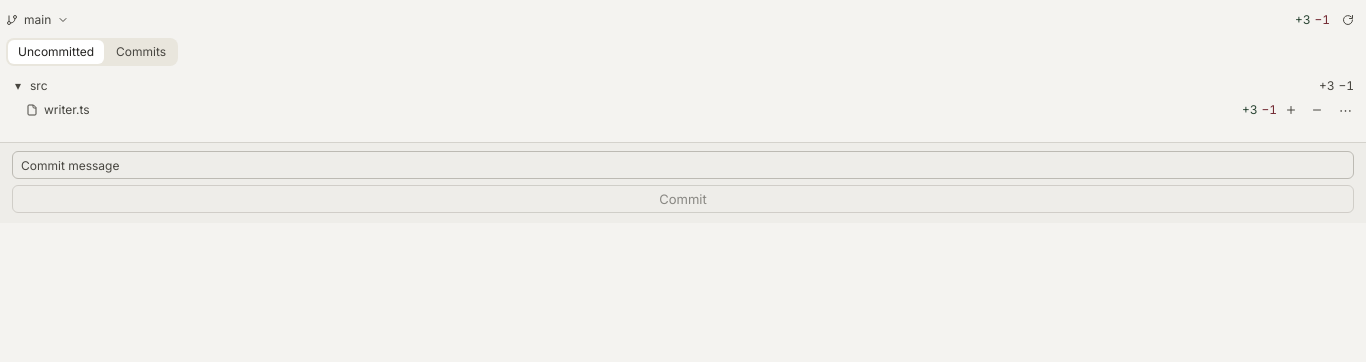
Scenario: ChangesSurface › asks for the diff of the row that is selected and renders its four line kinds
Click the button with class "workspace-file-change" at point(32, 110), box [6,98,1240,122]
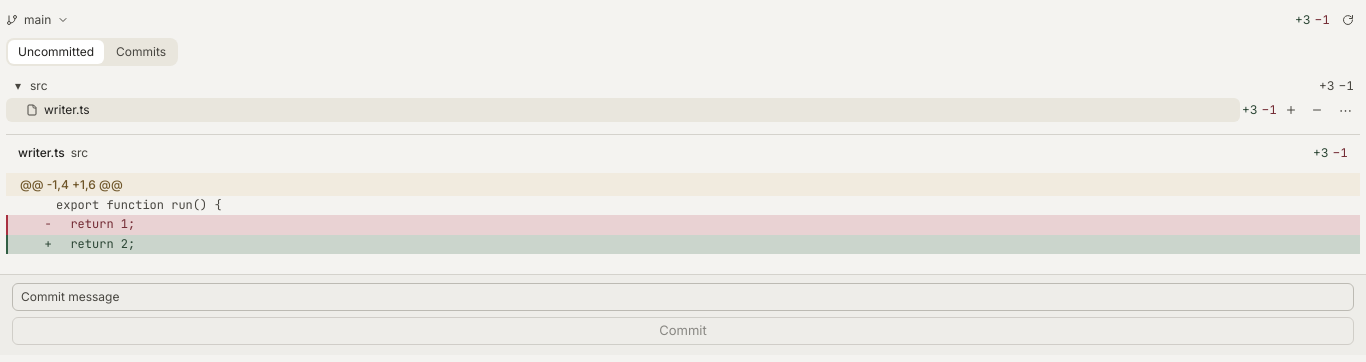
Check: the text with class "workspace-changes-diff-name" reads "writer.ts", box [18,145,65,160]
Check: the text with class "workspace-changes-diff-dir" reads "src", box [71,145,88,160]
Check: the text with class "workspace-changes-diff-hunk" reads "@@ -1,4 +1,6 @@", box [20,177,123,192]
